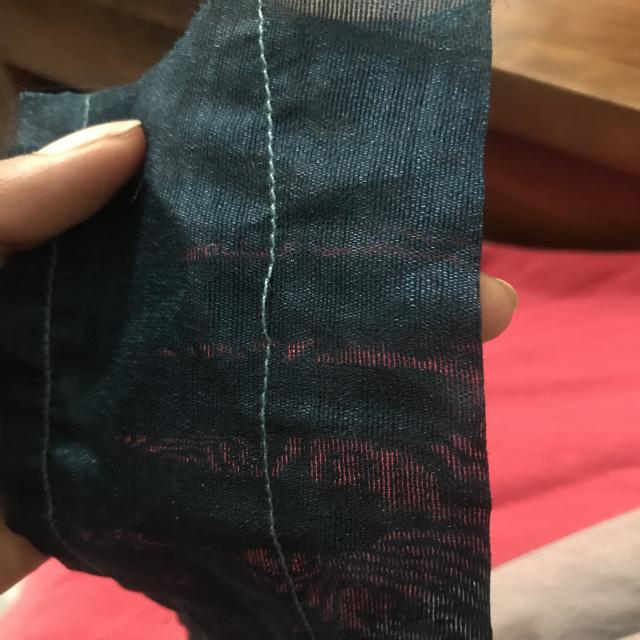skip: (235, 249, 313, 378)
